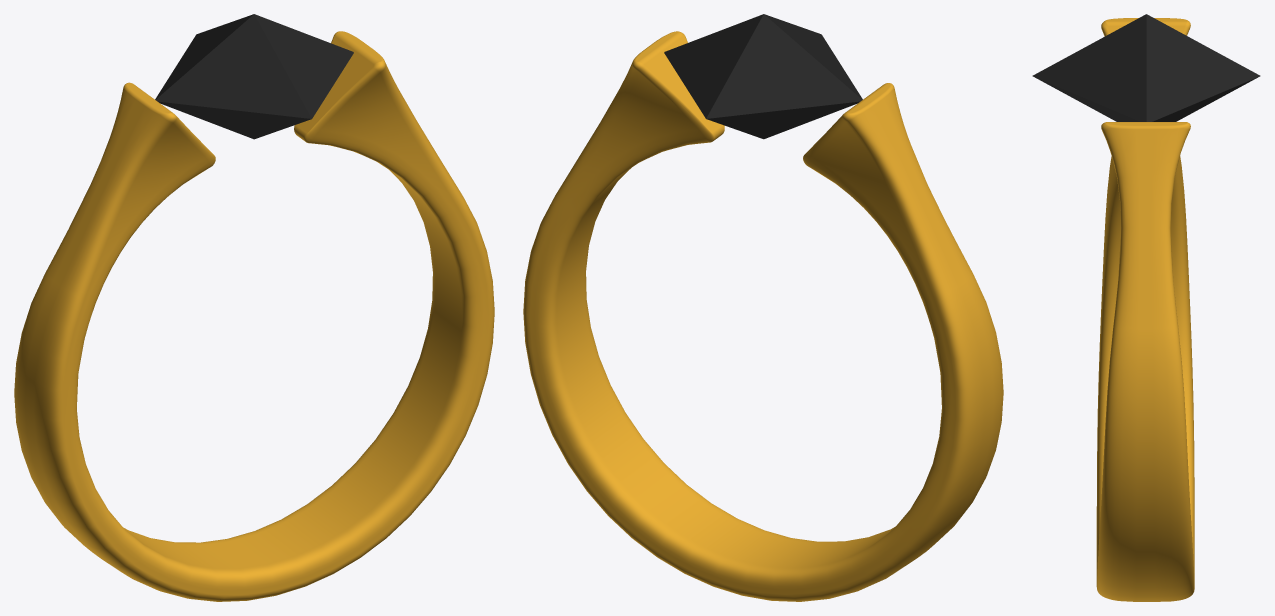
The model's file is ring.glb.
The picture shows the model from 3 angles, left to right: view 1: azimuth 30°, elevation 25°; view 2: azimuth 150°, elevation 25°; view 3: azimuth 270°, elevation 25°; orthographic projection.
Parts seen in each view (by area): view 1: TheRing; view 2: TheRing; view 3: TheRing.
Part boxes in pixels (x1=…): TheRing: x1=14, y1=14, x2=494, y2=601; TheRing: x1=523, y1=14, x2=1003, y2=601; TheRing: x1=1032, y1=14, x2=1260, y2=601.
Size of the model in its own units: 10.53 by 12.71 by 4.67.
